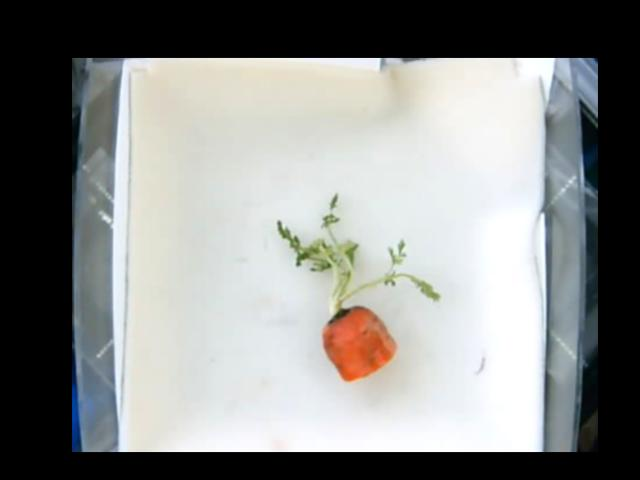Carrot: (276, 193, 440, 382)
